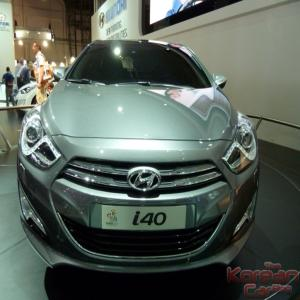Vehicle-registration-plate: (102, 206, 187, 230)
